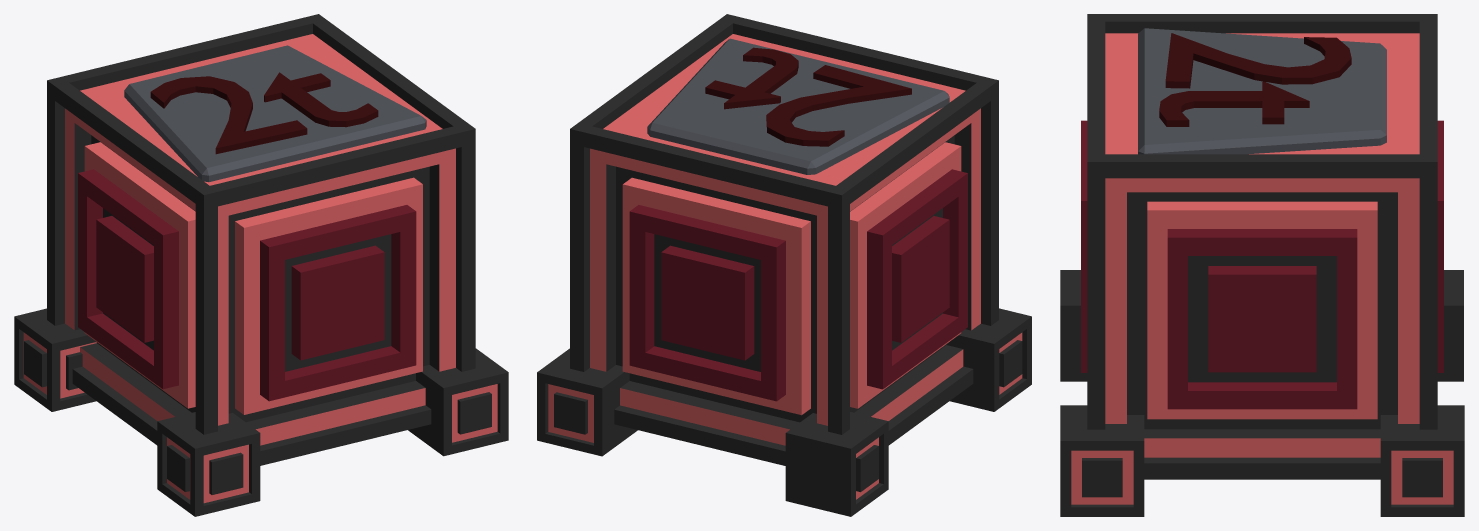
Rendered from HeavyBlock2.fbx.
The picture shows the model from 3 angles, left to right: view 1: azimuth 30°, elevation 25°; view 2: azimuth 150°, elevation 25°; view 3: azimuth 270°, elevation 25°; orthographic projection. The views are drawn at different scales.
Visible parts, largest first — view 1: Mesh; view 2: Mesh; view 3: Mesh.
Part boxes in pixels (x1,y1,x2,y2): Mesh: (14,14,508,516); Mesh: (537,14,1031,516); Mesh: (1060,14,1464,516).
Bounding box in the file's own units: 0.8919 × 0.8563 × 0.8919.
